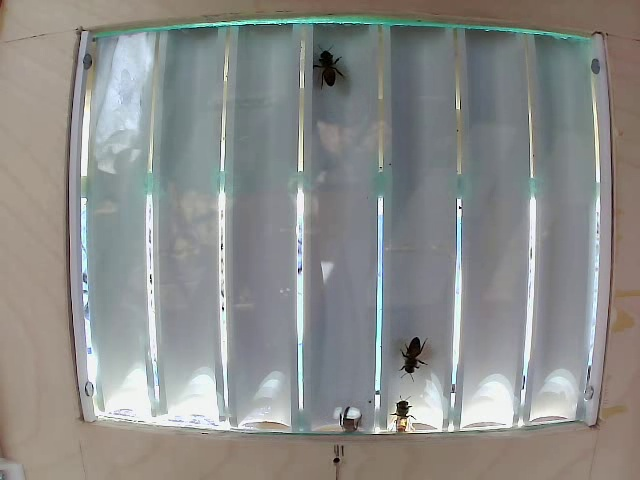bee: (387, 330, 442, 380), (310, 46, 342, 99)
